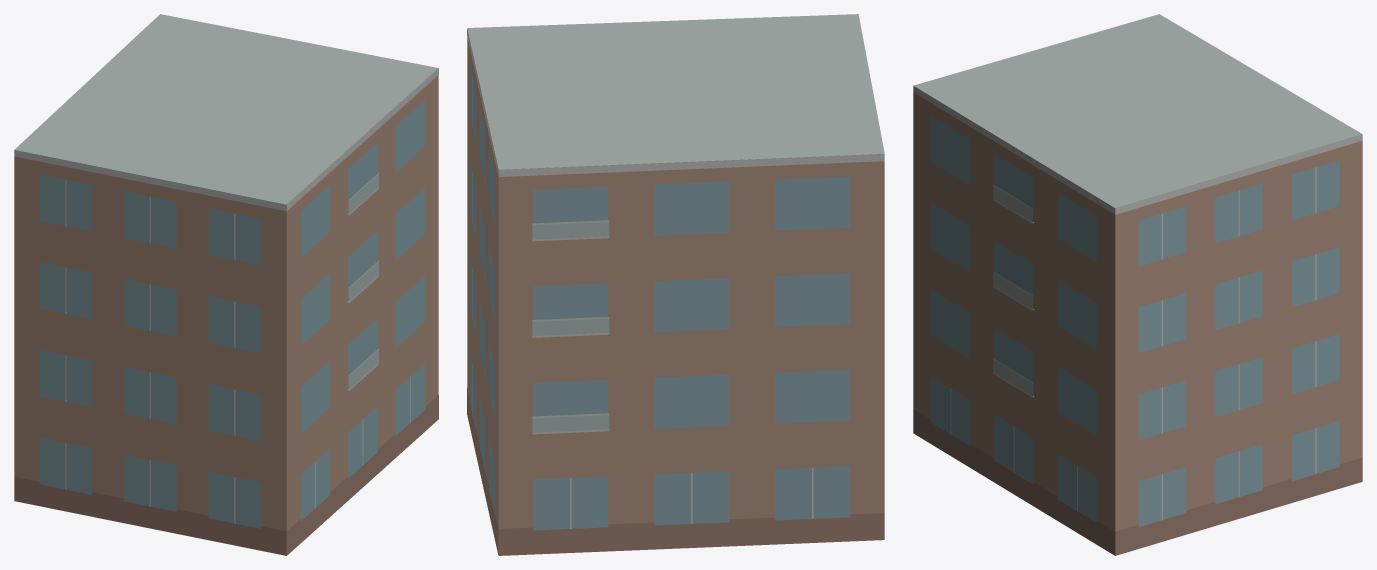
File: survey-upis-32909429.glb
3 renders of one model, left to right at view 1: azimuth 30°, elevation 25°; view 2: azimuth 150°, elevation 25°; view 3: azimuth 270°, elevation 25°, orthographic. The views are drawn at different scales.
Parts seen in each view (by area): view 1: survey-upis-32909429.tmp; view 2: survey-upis-32909429.tmp; view 3: survey-upis-32909429.tmp.
Boxes of the visible parts, x1,y1,x2,y2 form: survey-upis-32909429.tmp: [14, 14, 438, 555]; survey-upis-32909429.tmp: [467, 14, 884, 555]; survey-upis-32909429.tmp: [913, 14, 1362, 555].
Size of the model in its own units: 15.35 by 12.8 by 15.
